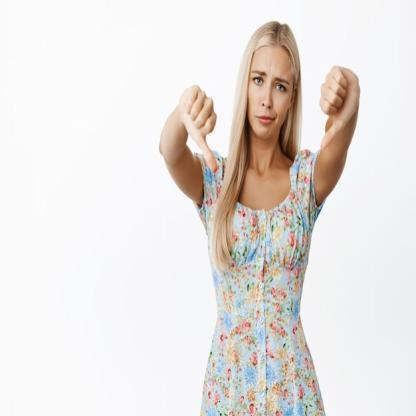thumb_down: (316, 62, 361, 154), (176, 80, 220, 174)
